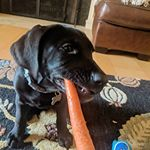puppy: (9, 21, 111, 150)
